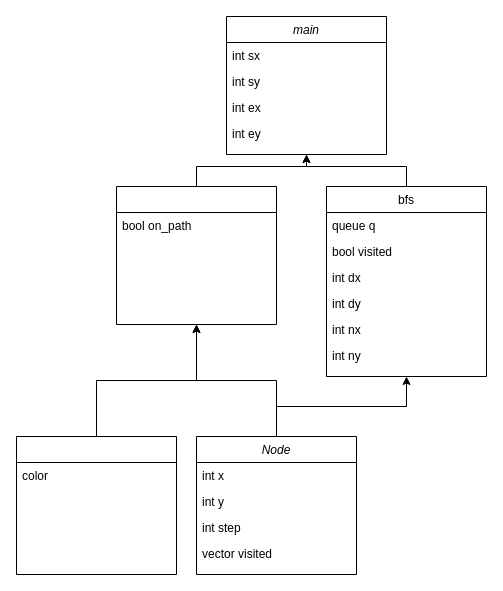
Some shapes in this 503 by 591 pixel diagram are drawn without their labels. The shapes that lost their labels are listed below. From the top down, each one's box as (x1, y1, x2, y2) in pixels, then its label:
(116, 186, 276, 324): print_map
(16, 436, 176, 574): set-color
